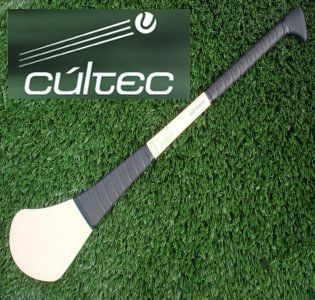hurley: (8, 8, 309, 285)
